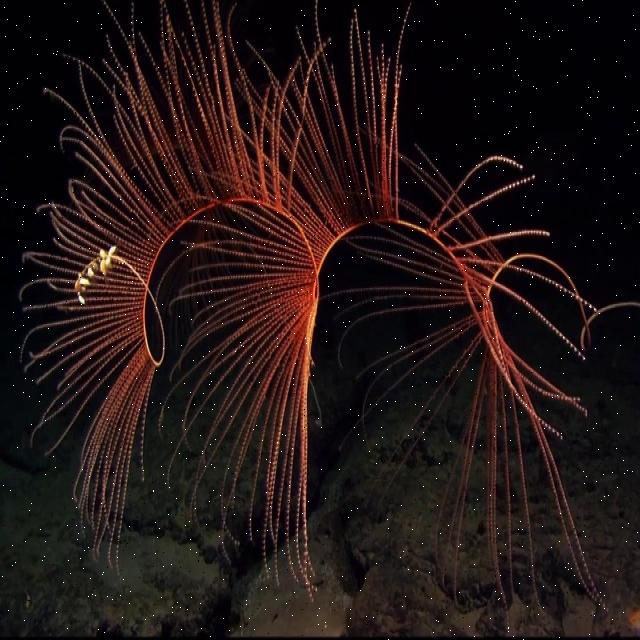reefs: (18, 0, 639, 617)
